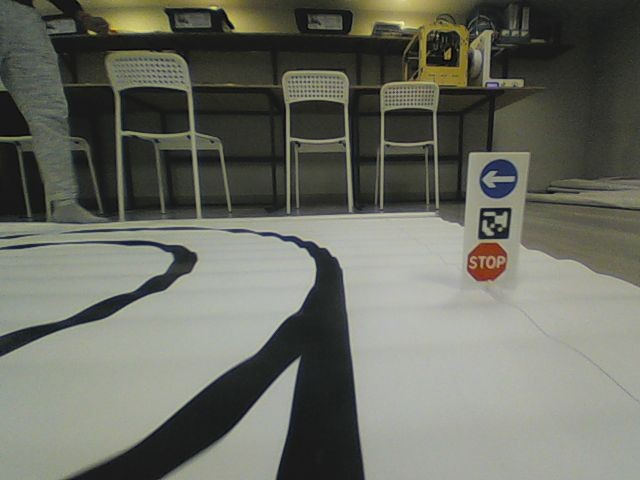Stop: (466, 241, 508, 283)
